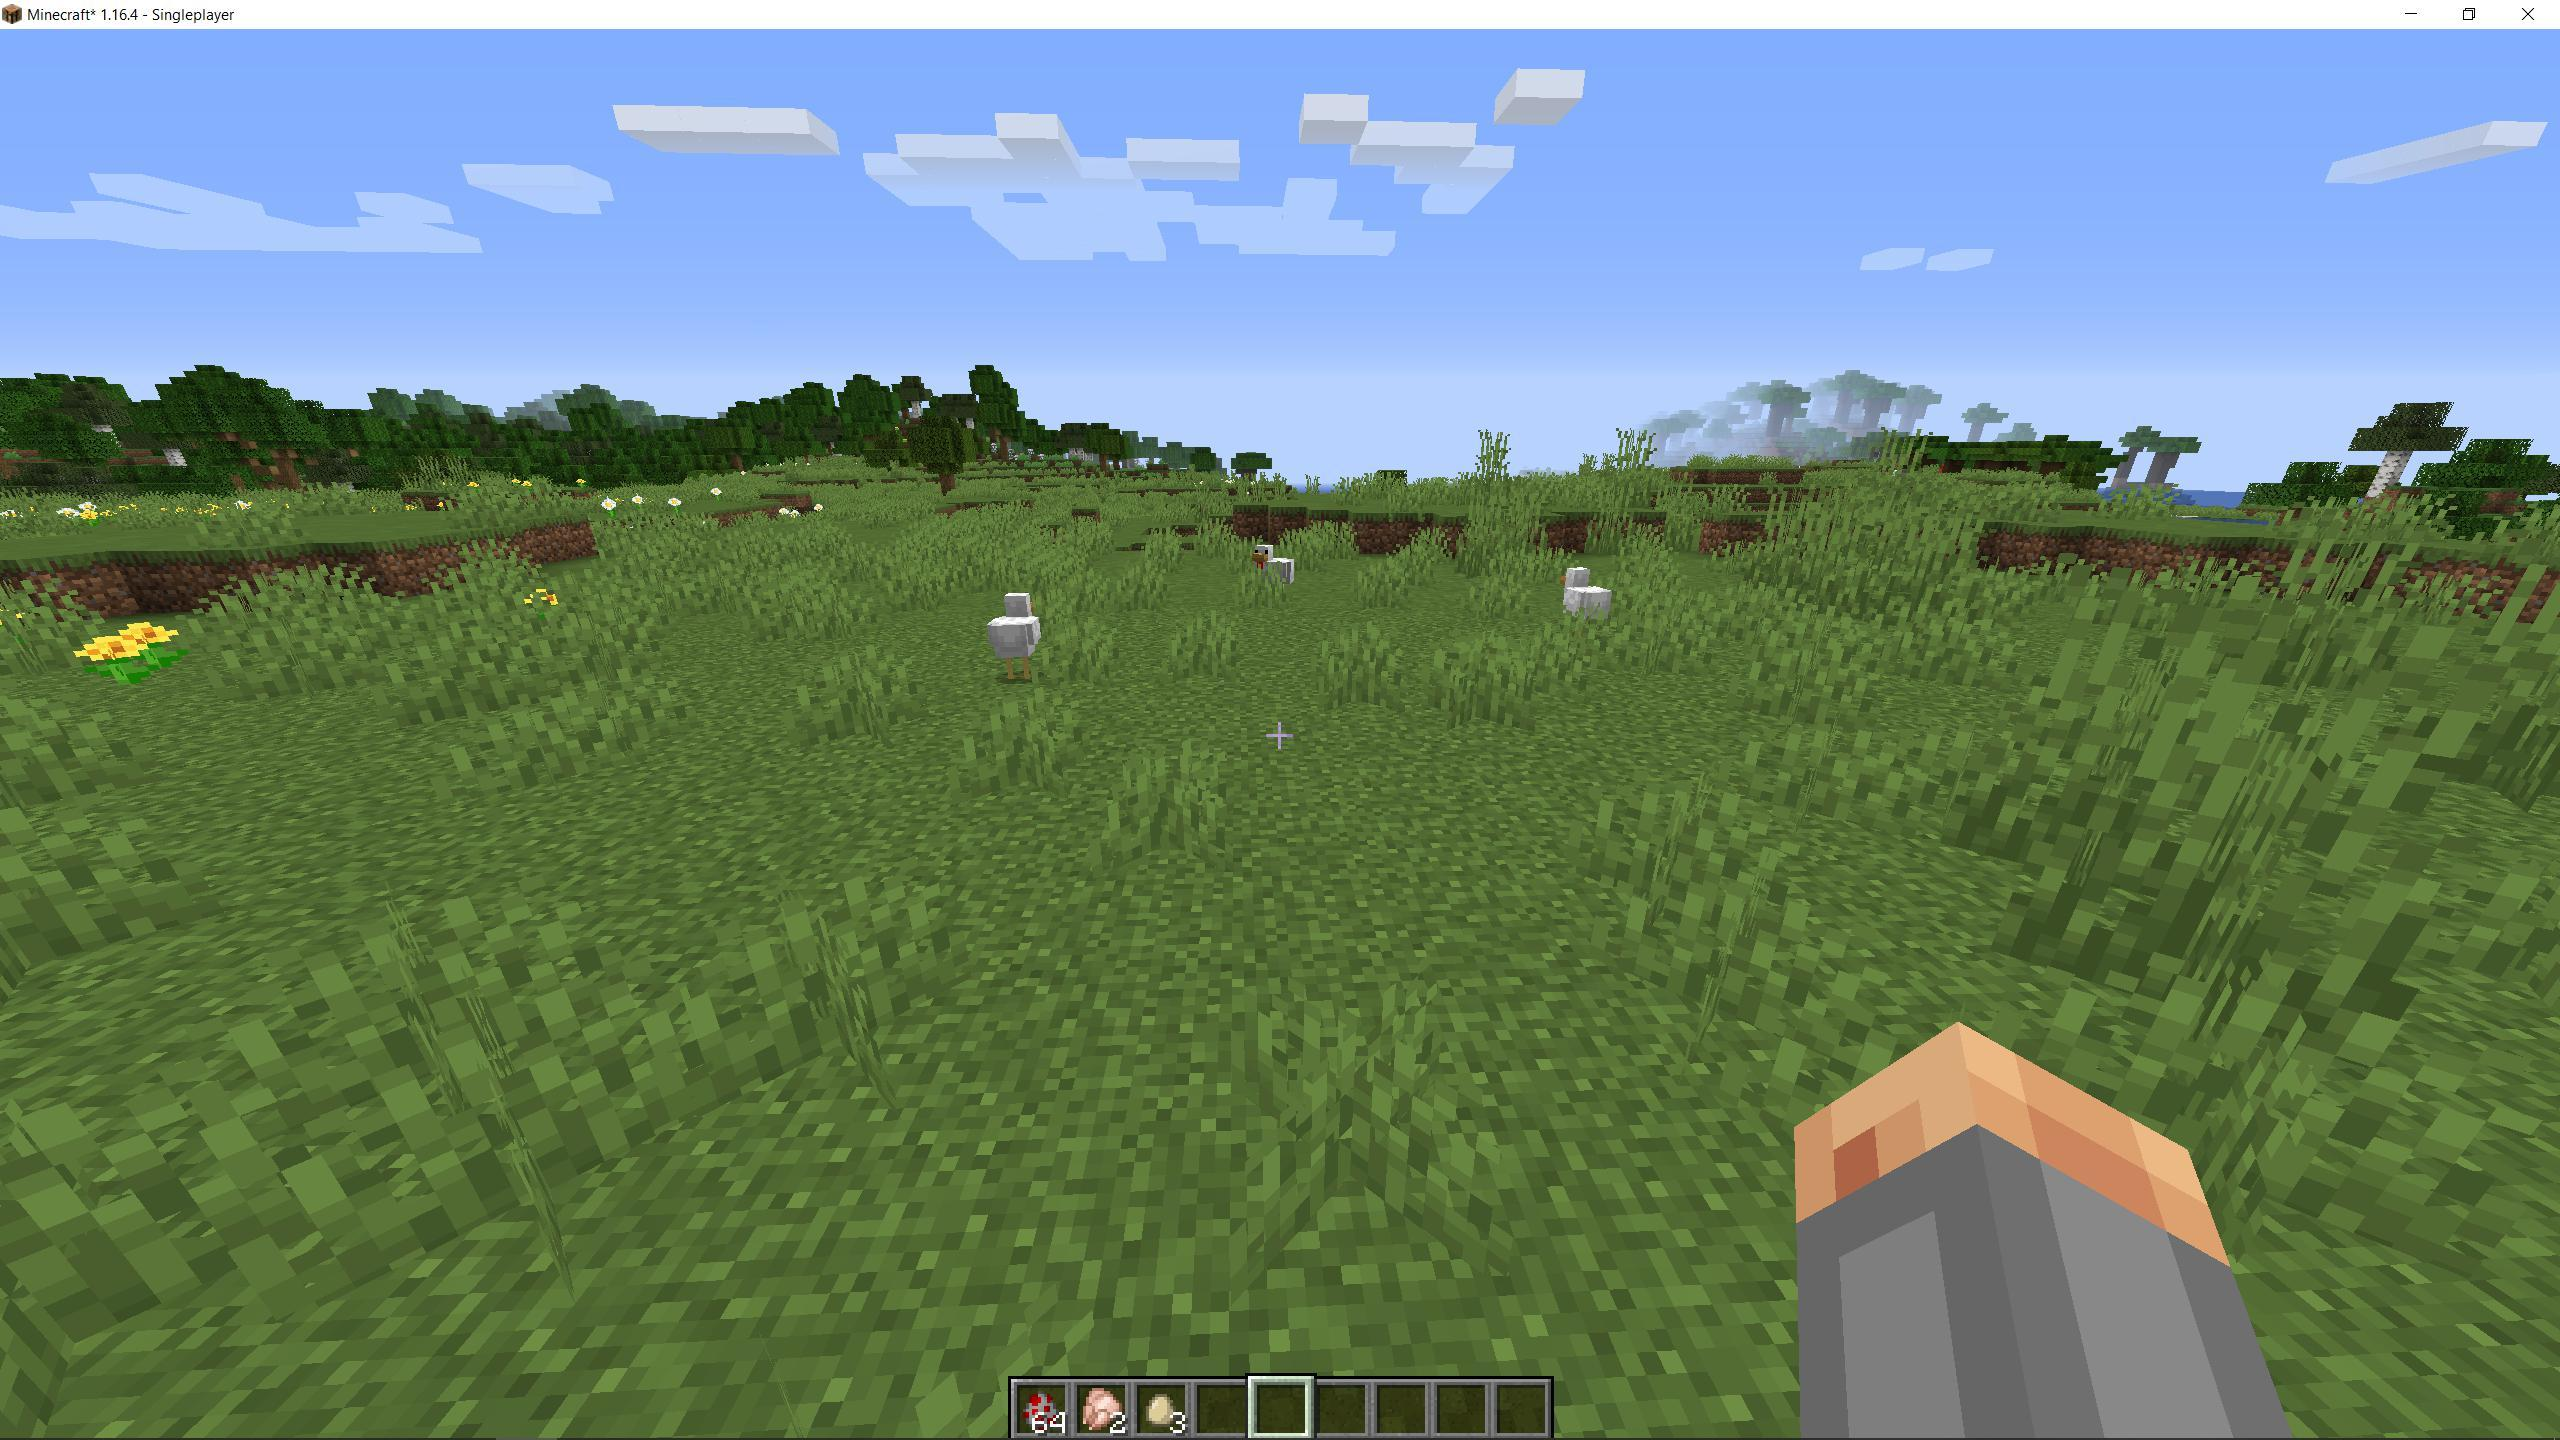chicken: (976, 585, 1057, 679), (1540, 570, 1623, 651), (1238, 542, 1301, 608)
